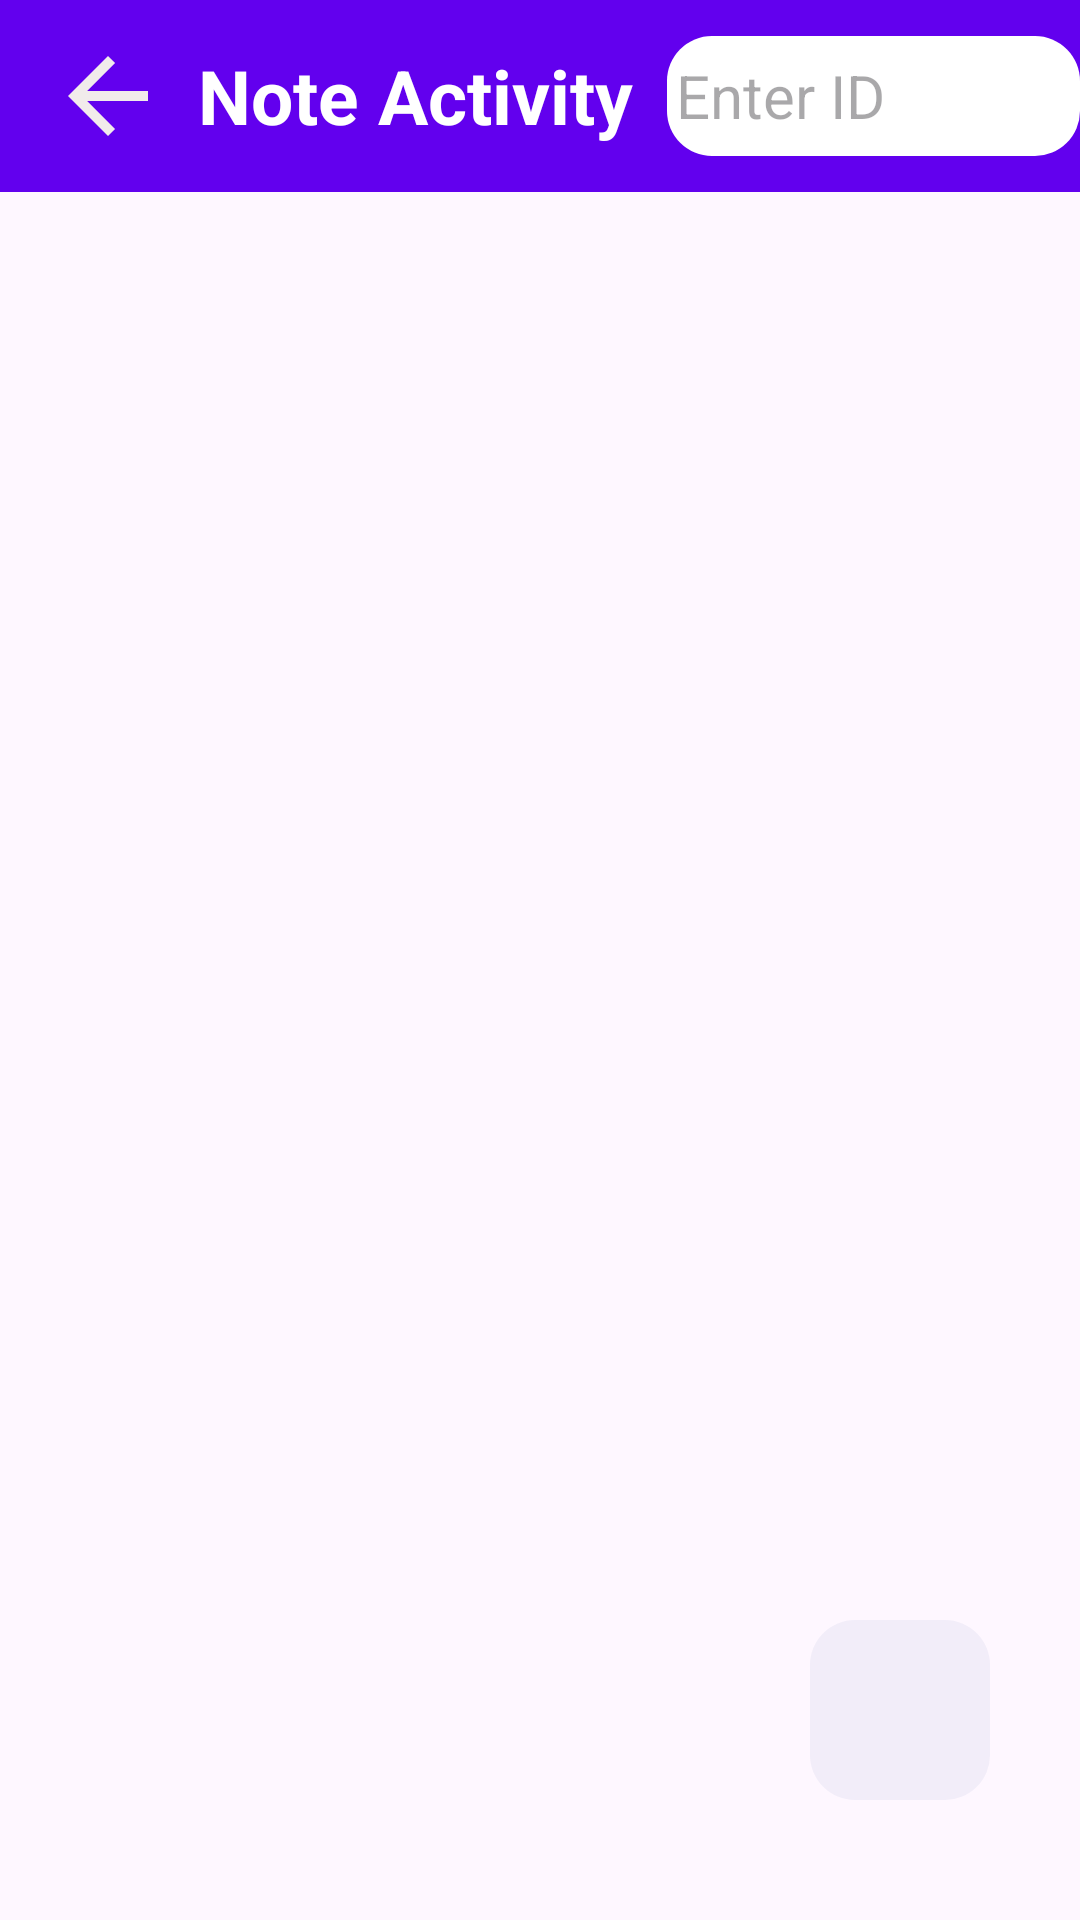

Where icons sit on this 1080w x 1920h app screen, as (x1, y1, x2, y2):
arrow back: (68, 56, 148, 136)
